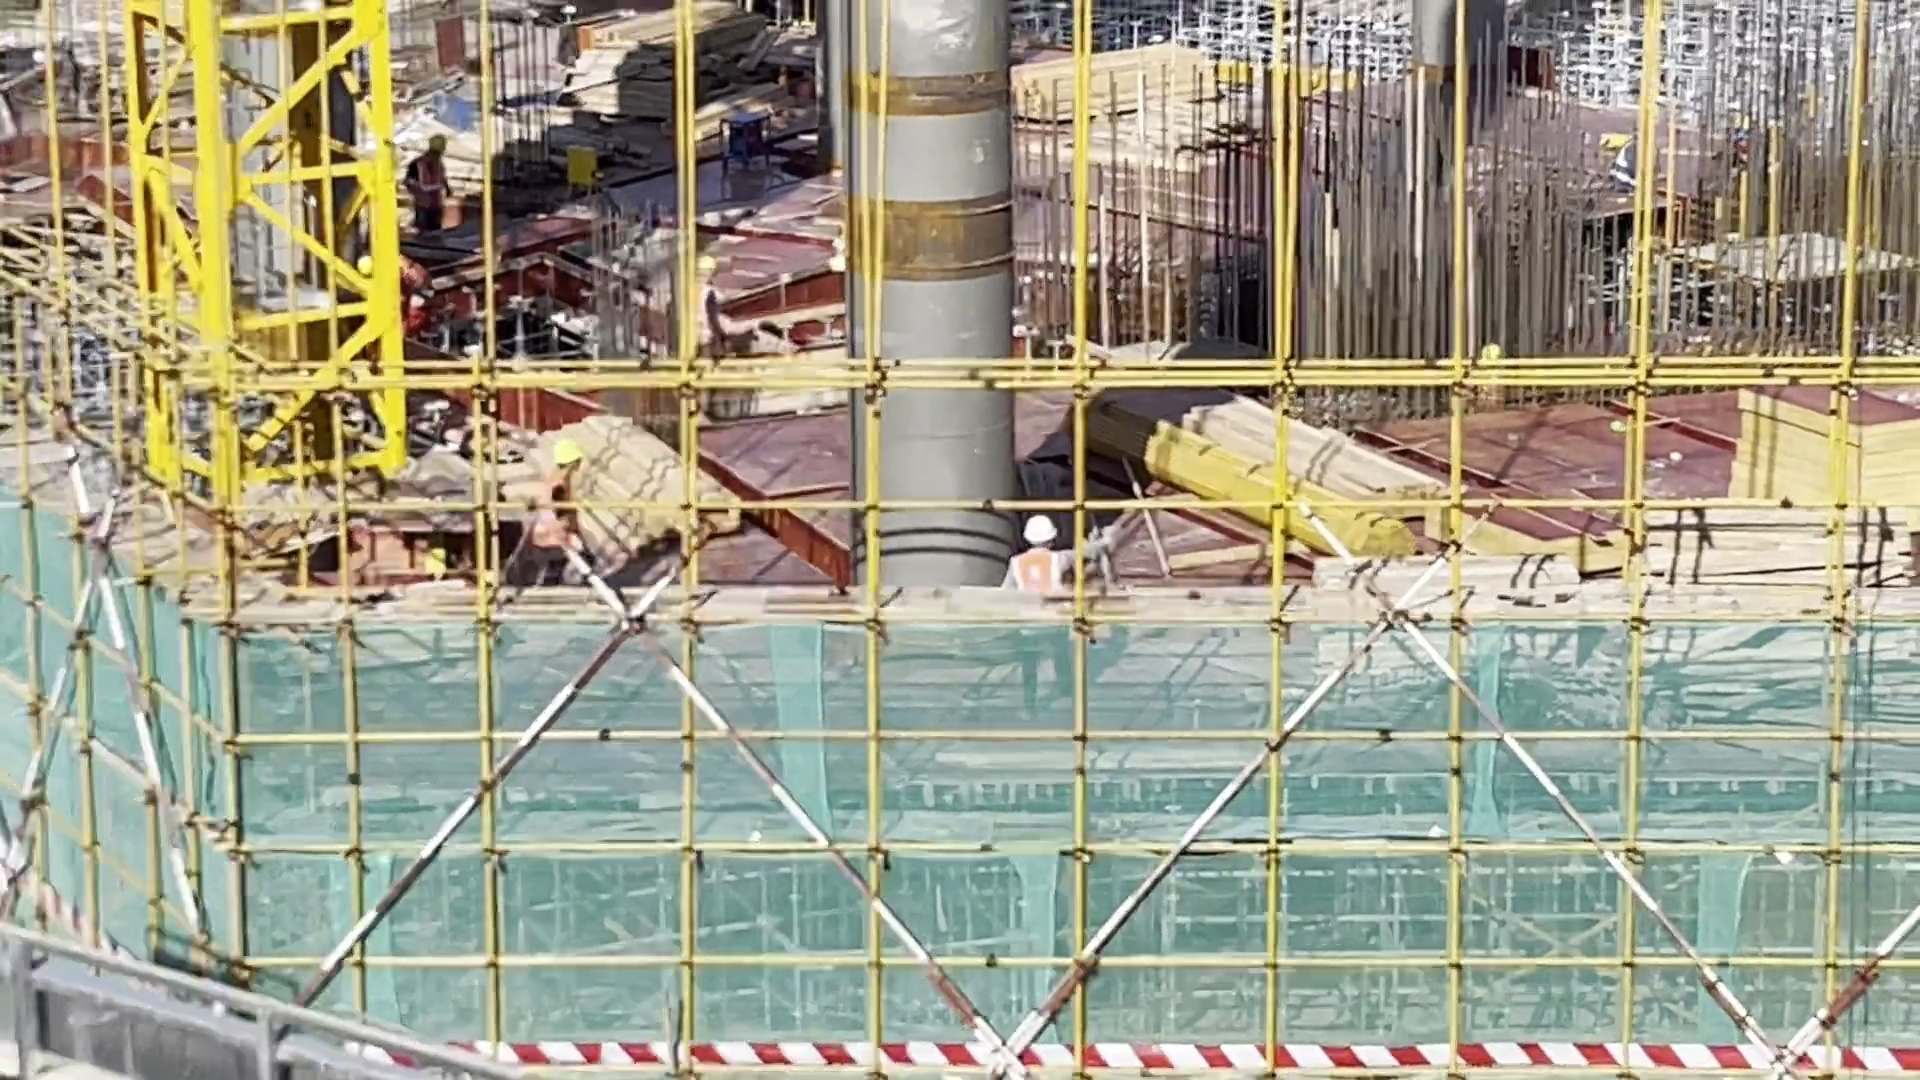board: (1727, 388, 1920, 509)
helmet: (1023, 514, 1061, 540)
person: (530, 446, 604, 592), (1004, 515, 1083, 615), (401, 133, 454, 231)
wood: (1161, 389, 1435, 560), (548, 423, 746, 573), (1006, 38, 1238, 108)
